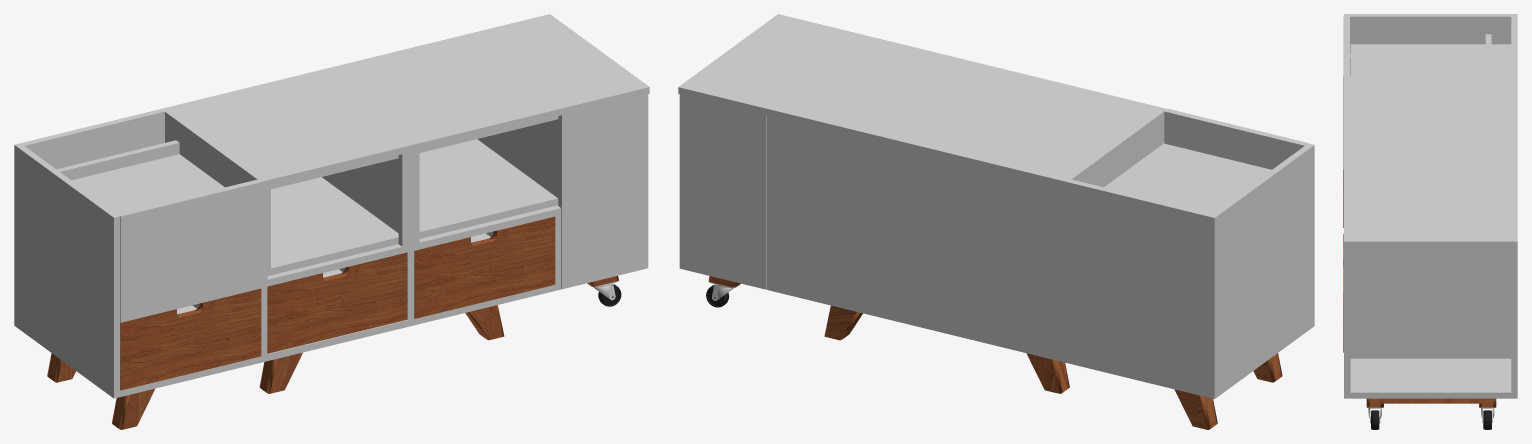
Rendered from ishana.glb.
3 renders of one model, left to right at view 1: azimuth 30°, elevation 25°; view 2: azimuth 150°, elevation 25°; view 3: azimuth 270°, elevation 25°, orthographic. The views are drawn at different scales.
Visible parts, largest first — view 1: Sketchup, G-__558129, G-__558066.001, G-__558111, G-__558048, G-__558084, G-__558030, G-__557976, G-__557994; view 2: Sketchup, G-__558129, G-__558066.001, G-__558030, G-__557976, G-__557994; view 3: Sketchup, G-__558129, G-Difference.007, G-__558066.001, Component#4.002.
Boxes of the visible parts, x1=… form: Sketchup: x1=14, y1=14, x2=649, y2=398; G-__558129: x1=267, y1=94, x2=648, y2=289; G-__558066.001: x1=117, y1=179, x2=261, y2=322; G-__558111: x1=414, y1=216, x2=555, y2=318; G-__558048: x1=120, y1=288, x2=261, y2=390; G-__558084: x1=267, y1=252, x2=407, y2=353; G-__558030: x1=47, y1=353, x2=154, y2=429; G-__557976: x1=259, y1=352, x2=302, y2=393; G-__557994: x1=465, y1=305, x2=504, y2=340; Sketchup: x1=678, y1=14, x2=1314, y2=398; G-__558129: x1=679, y1=94, x2=766, y2=289; G-__558066.001: x1=1164, y1=109, x2=1308, y2=169; G-__558030: x1=1174, y1=353, x2=1282, y2=429; G-__557976: x1=1026, y1=353, x2=1069, y2=393; G-__557994: x1=824, y1=305, x2=862, y2=340; Sketchup: x1=1344, y1=14, x2=1517, y2=247; G-__558129: x1=1344, y1=247, x2=1517, y2=398; G-Difference.007: x1=1366, y1=398, x2=1496, y2=407; G-__558066.001: x1=1343, y1=16, x2=1350, y2=168; Component#4.002: x1=1370, y1=410, x2=1379, y2=429.
Size of the model in its own units: 1.24 by 0.5 by 0.402.
Materials: 5 (2 with a texture image).
